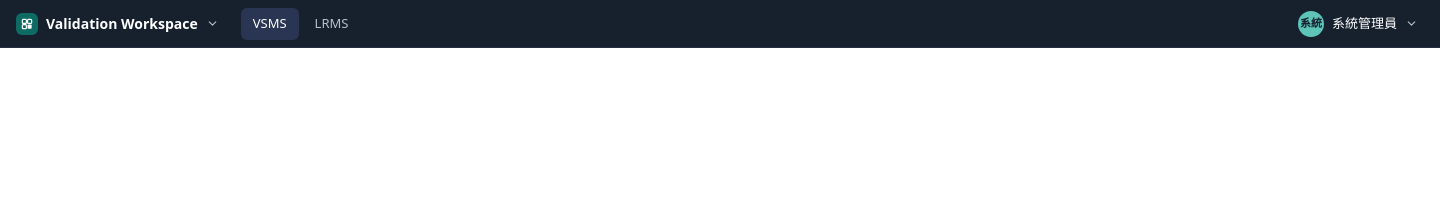
it: Topbar 使用者選單的「使用說明」 › 訪客也看得到「使用說明」
Click the button with aria-label "使用者選單" at (1359, 24), box top-left (1294, 8), bottom-right (1424, 40)
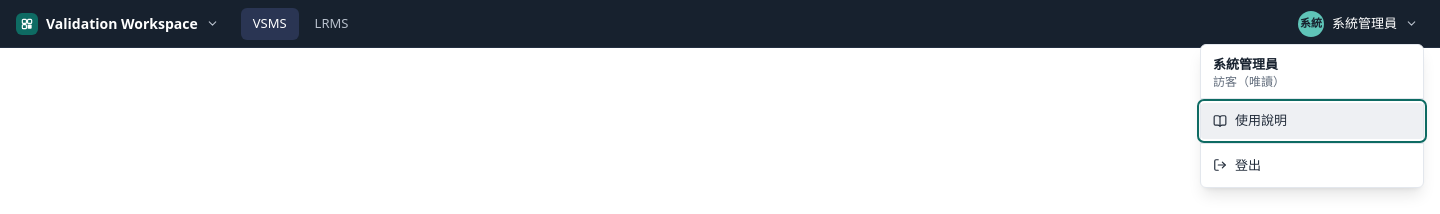
Result: the menu item "使用說明" is shown at top-left (1201, 103), bottom-right (1423, 138)
